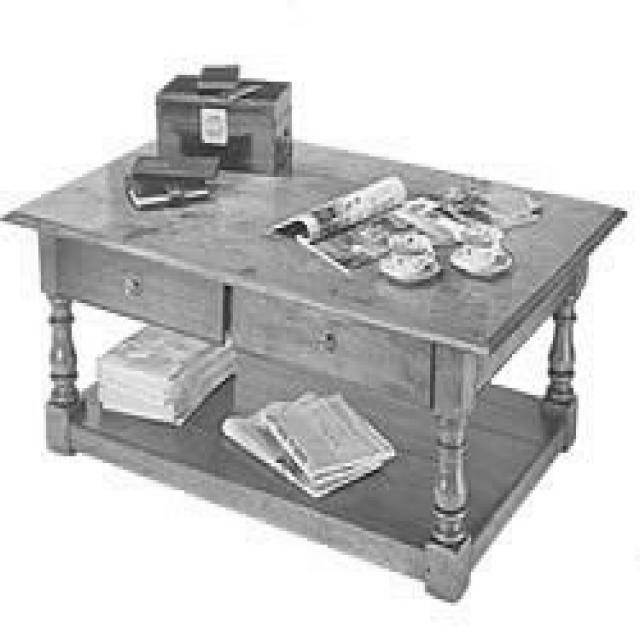table: (4, 103, 628, 606)
